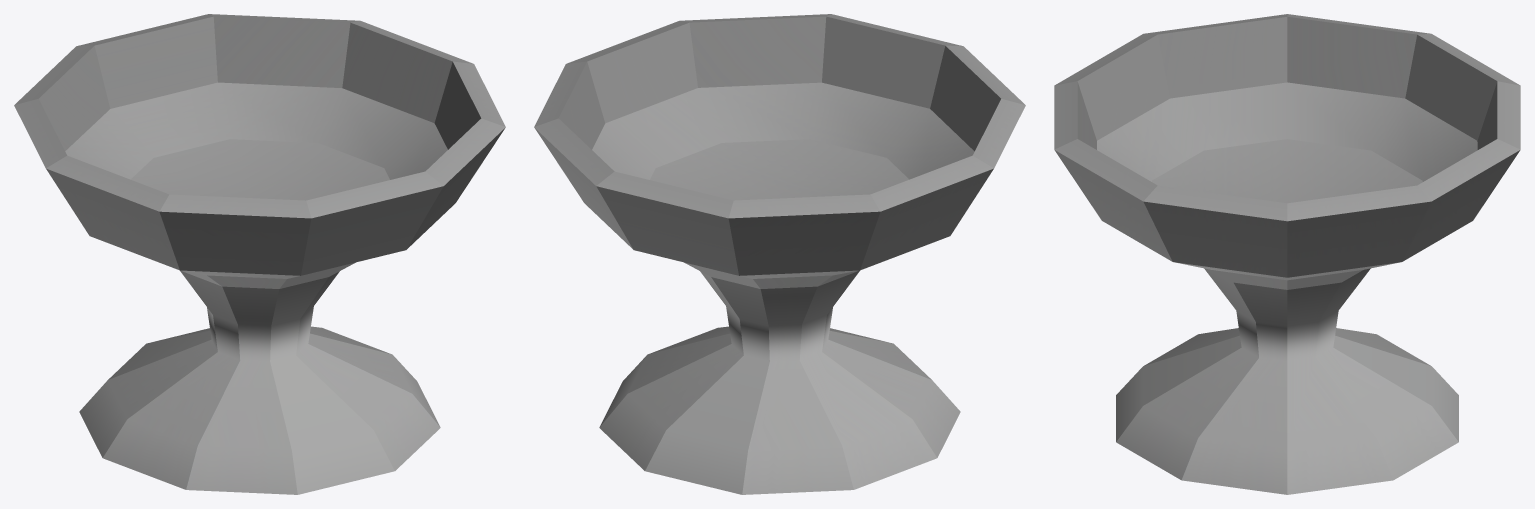
Rendered from BowlEmpty.fbx.
3 views of the same model, side by side, from view 1: azimuth 30°, elevation 25°; view 2: azimuth 150°, elevation 25°; view 3: azimuth 270°, elevation 25° (orthographic).
Parts seen in each view (by area): view 1: BowlEmpty; view 2: BowlEmpty; view 3: BowlEmpty.
Part boxes in pixels (<box>): BowlEmpty: <box>14,14,505,494</box>; BowlEmpty: <box>534,14,1025,494</box>; BowlEmpty: <box>1054,14,1520,494</box>.
Size of the model in its own units: 0.3069 by 0.2131 by 0.2919.
